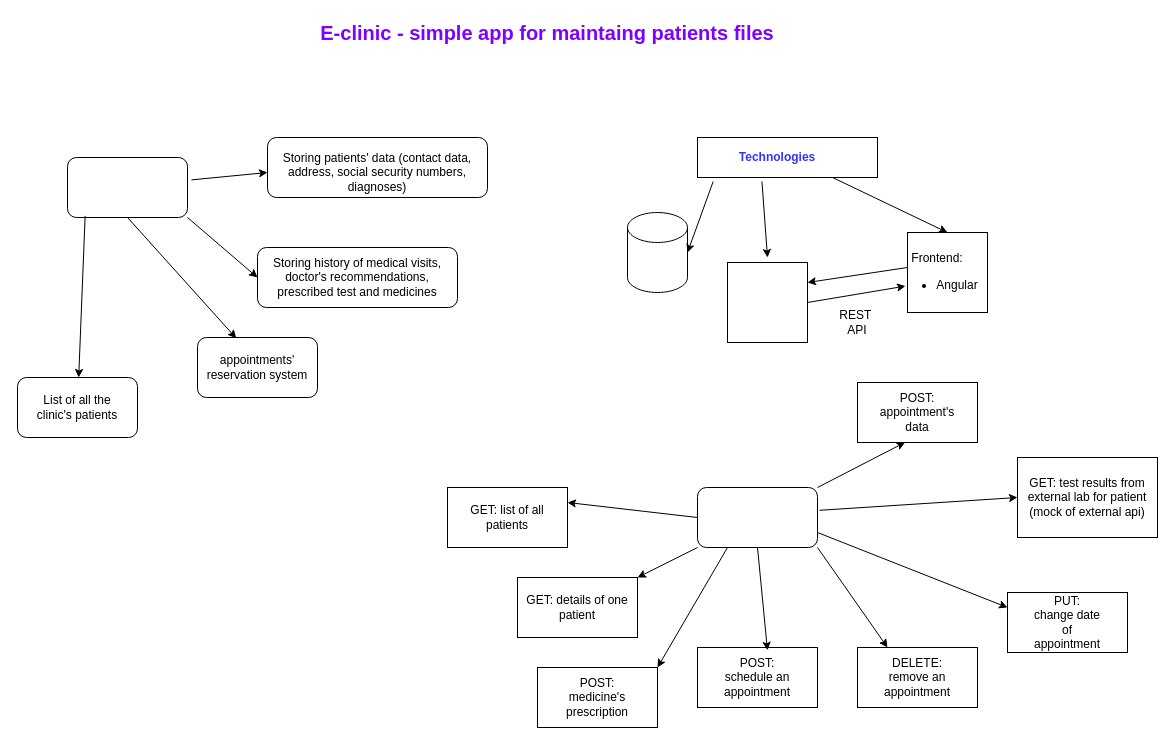
Some shapes in this 1175 by 745 pixel diagram are drawn without their labels. Here are the shapes that lost their labels. From the top down, the centre of each, then its label:
the point at 127,187: Functionalities
the point at 657,252: DB: Mongo
the point at 767,302: Backend: Java, SpringBoot
the point at 757,517: Possible endpoints:
